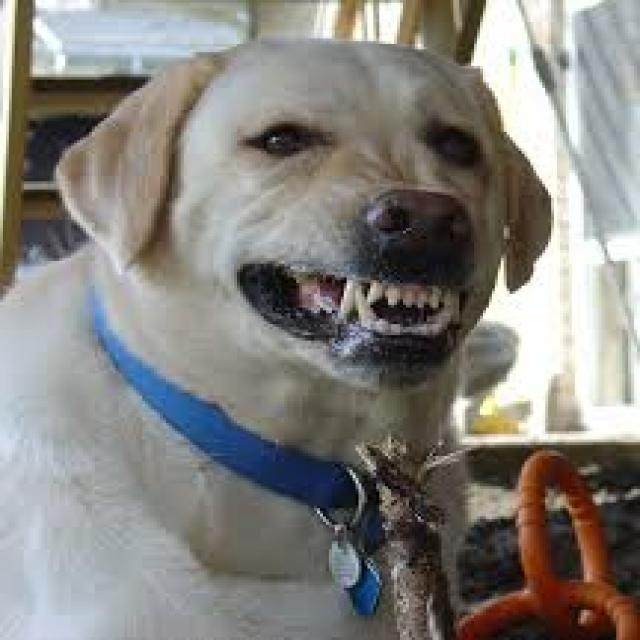angry: (61, 22, 596, 453)
